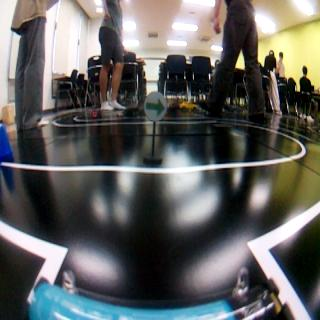right: (144, 93, 164, 117)
